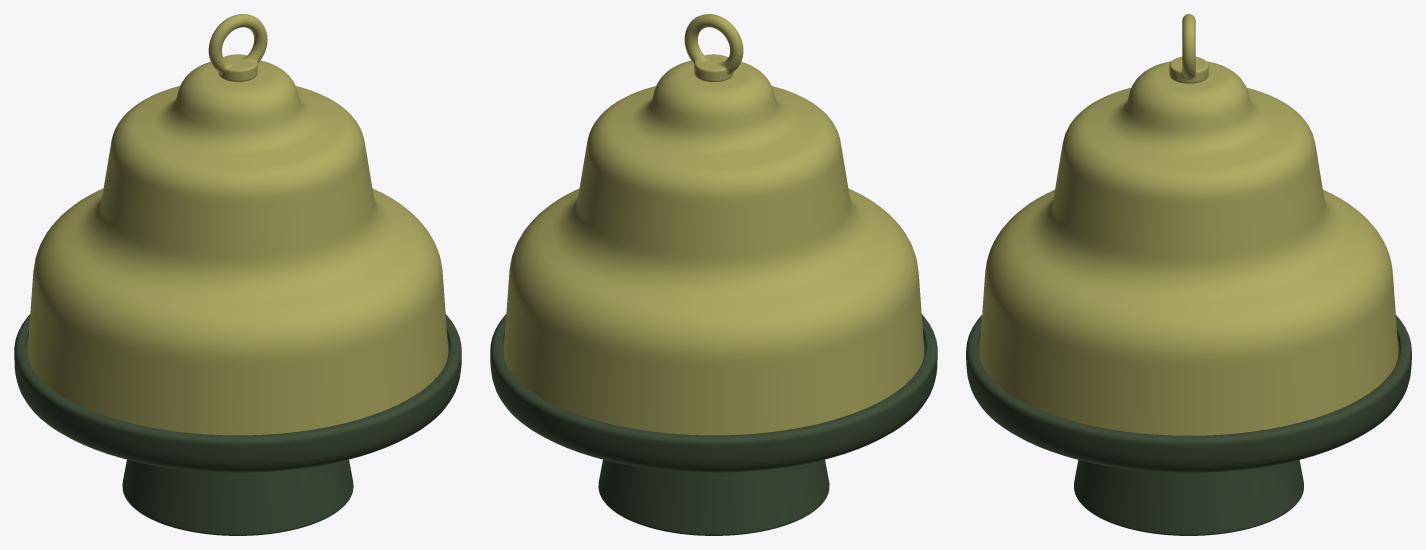
The model's file is Incipit_Belle_Tall_mat(3).fbx.
3 views of the same model, side by side, from view 1: azimuth 30°, elevation 25°; view 2: azimuth 150°, elevation 25°; view 3: azimuth 270°, elevation 25° (orthographic).
Visible parts, largest first — view 1: Incipit_Belle_Tall_mat3; view 2: Incipit_Belle_Tall_mat3; view 3: Incipit_Belle_Tall_mat3.
Part boxes in pixels (x1,y1,x2,y2): Incipit_Belle_Tall_mat3: (14,14,461,535); Incipit_Belle_Tall_mat3: (490,14,937,535); Incipit_Belle_Tall_mat3: (966,14,1411,535).
Size of the model in its own units: 18 by 18 by 20.97.
